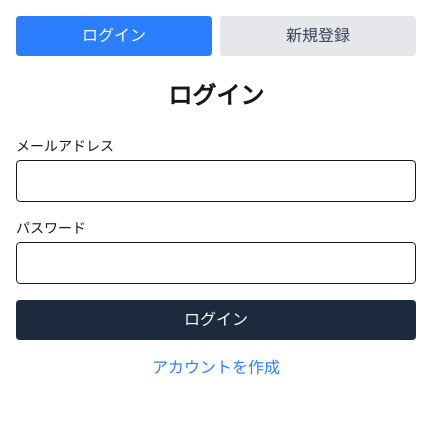
Test: AuthForm Component › ネットワークエラーハンドリング › should display error message on network failure during login
Step 1. Type "test@example.com" into the field labelled "メールアドレス" → (216, 181), box [16,160,416,202]
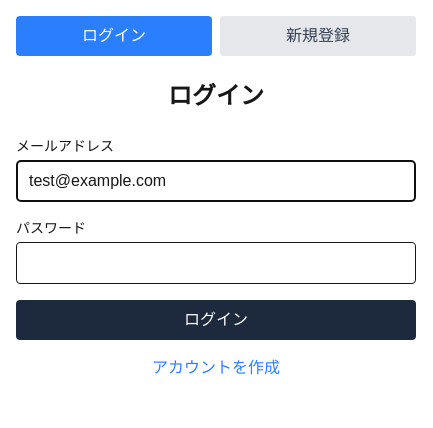
Step 2. Type "ValidPassword123!" into the password field labelled "パスワード" → (216, 263), box [16,242,416,284]
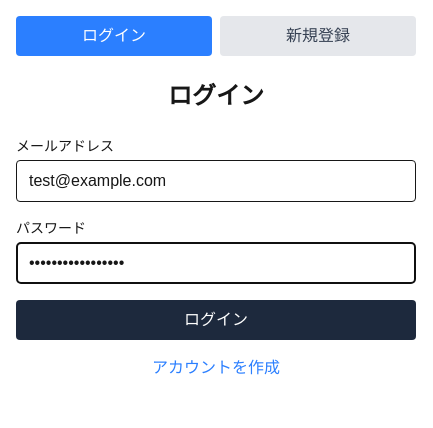
Step 3. Click the button with test id "login-button" → (216, 320), box [16,300,416,340]
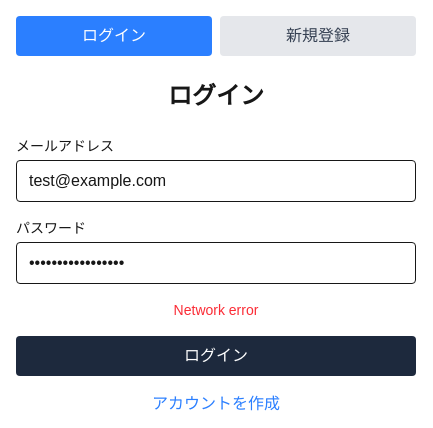
Check: the text "Network error" is shown, box [174,302,258,318]
